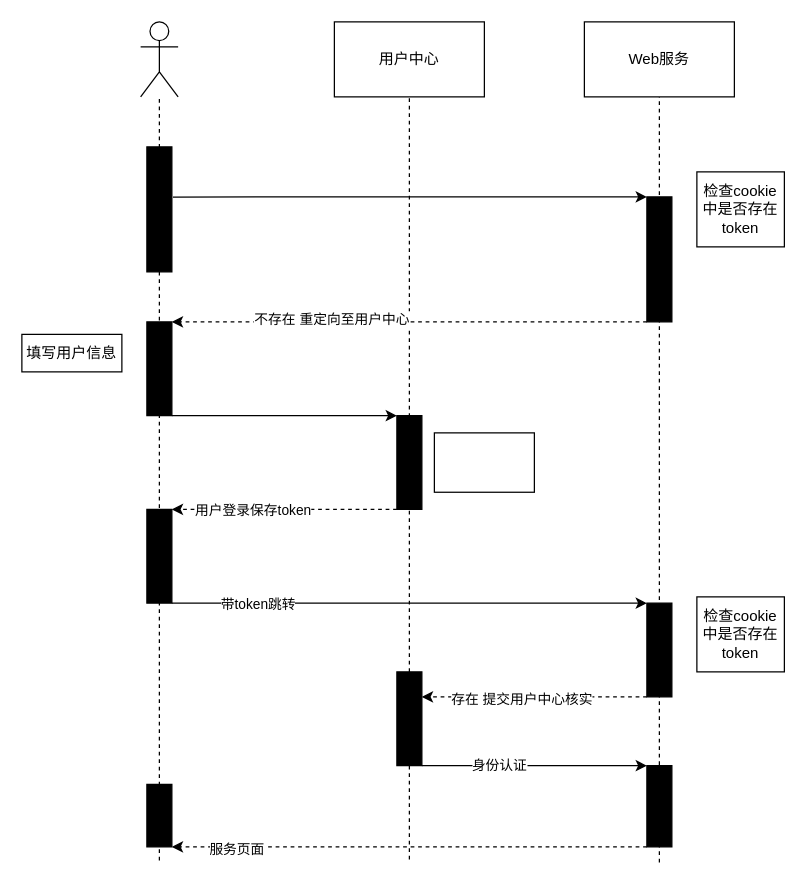
Some shapes in this 806 by 886 pixel diagram are drawn without their labels. Here are the shapes that lost their labels. From the top down, the centre of each, then its label:
point 158,59: 用户
point 483,462: 核对用户信息
